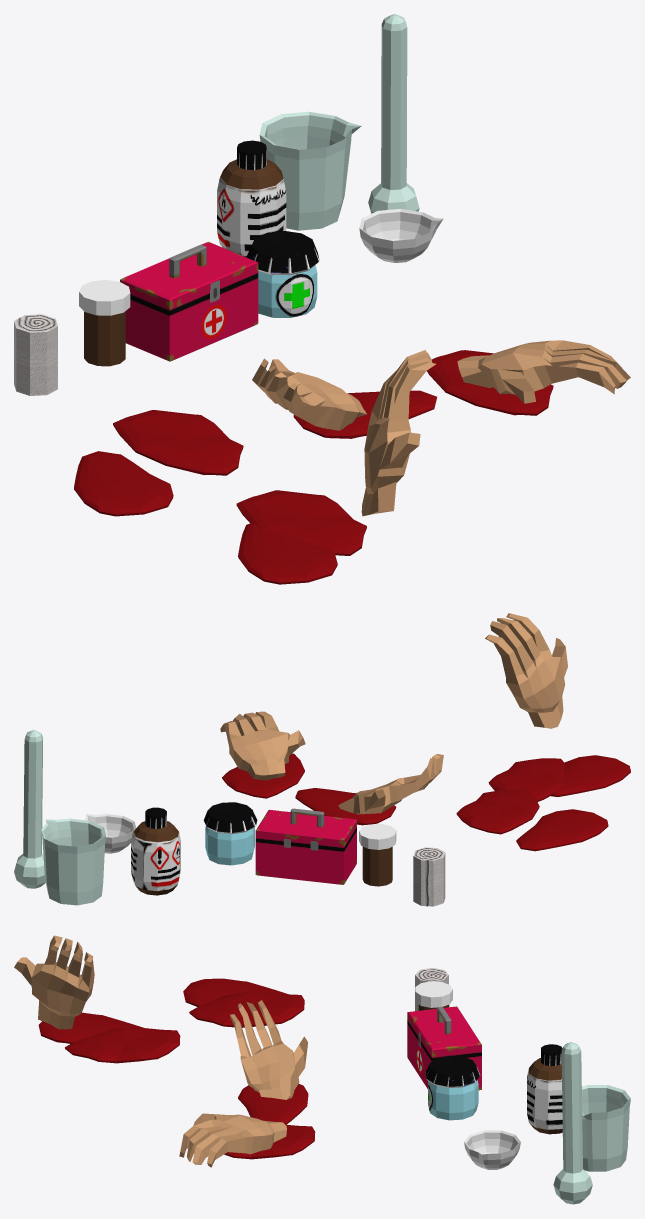
File: More object.fbx
3 renders of one model, top to bottom at view 1: azimuth 30°, elevation 25°; view 2: azimuth 150°, elevation 25°; view 3: azimuth 270°, elevation 25°, orthographic. The views are drawn at different scales.
Visible parts, largest first — view 1: Medicbox, handnblood.001, Mfluid, Beeker, hand, Chemist, Mfluid.001, Themo, medicine.001, Mfluid.002, handnblood.002, medicine (+3 smaller); view 2: Medicbox, hand, handnblood.001, Beeker, Mfluid, Chemist, Themo, medicine.001, Mfluid.001, Mfluid.002, handnblood.002, medicine (+3 smaller); view 3: handnblood.001, Mfluid, hand, handnblood.002, Beeker, Medicbox, Themo, medicine.001, Chemist, Mfluid.001, Chemist.004, handnblood (+3 smaller).
Boxes of the visible parts, box(x1,y1,x2,y2) form: Medicbox: box(120, 241, 258, 361); handnblood.001: box(427, 340, 630, 415); Mfluid: box(236, 490, 366, 584); Beeker: box(259, 111, 361, 230); hand: box(361, 350, 435, 516); Chemist: box(217, 140, 286, 256); Mfluid.001: box(113, 410, 243, 475); Themo: box(368, 14, 419, 213); medicine.001: box(246, 231, 319, 317); Mfluid.002: box(74, 451, 173, 516); handnblood.002: box(252, 358, 366, 430); medicine: box(79, 280, 130, 366); Medicbox: box(255, 808, 356, 884); hand: box(485, 613, 567, 728); handnblood.001: box(220, 711, 305, 798); Beeker: box(41, 818, 105, 905); Mfluid: box(488, 755, 630, 801); Chemist: box(131, 807, 180, 895); Themo: box(14, 730, 45, 888); medicine.001: box(203, 802, 257, 865); Mfluid.001: box(456, 789, 539, 834); Mfluid.002: box(516, 809, 608, 851); handnblood.002: box(338, 754, 443, 814); medicine: box(359, 824, 396, 886); handnblood.001: box(179, 1113, 315, 1167); Mfluid: box(38, 1012, 180, 1063); hand: box(14, 935, 94, 1029); handnblood.002: box(230, 1000, 307, 1099); Beeker: box(582, 1085, 630, 1171); Medicbox: box(407, 1006, 481, 1090); Themo: box(553, 1042, 592, 1204); medicine.001: box(425, 1055, 480, 1120); Chemist: box(527, 1044, 562, 1134); Mfluid.001: box(189, 991, 304, 1027); Chemist.004: box(464, 1130, 520, 1169); handnblood: box(238, 1084, 308, 1124).
Bounding box in the file's own units: 1885 × 681 × 2386.
Materials: 7 (4 with a texture image).
